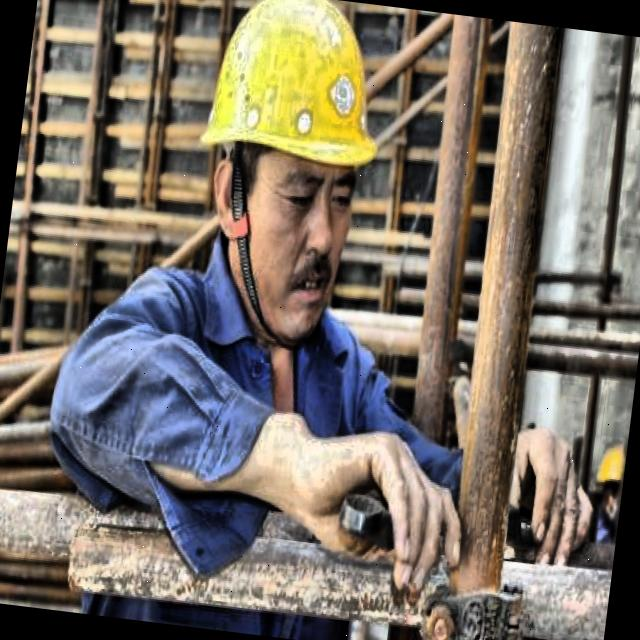helmet: (156, 0, 413, 362)
